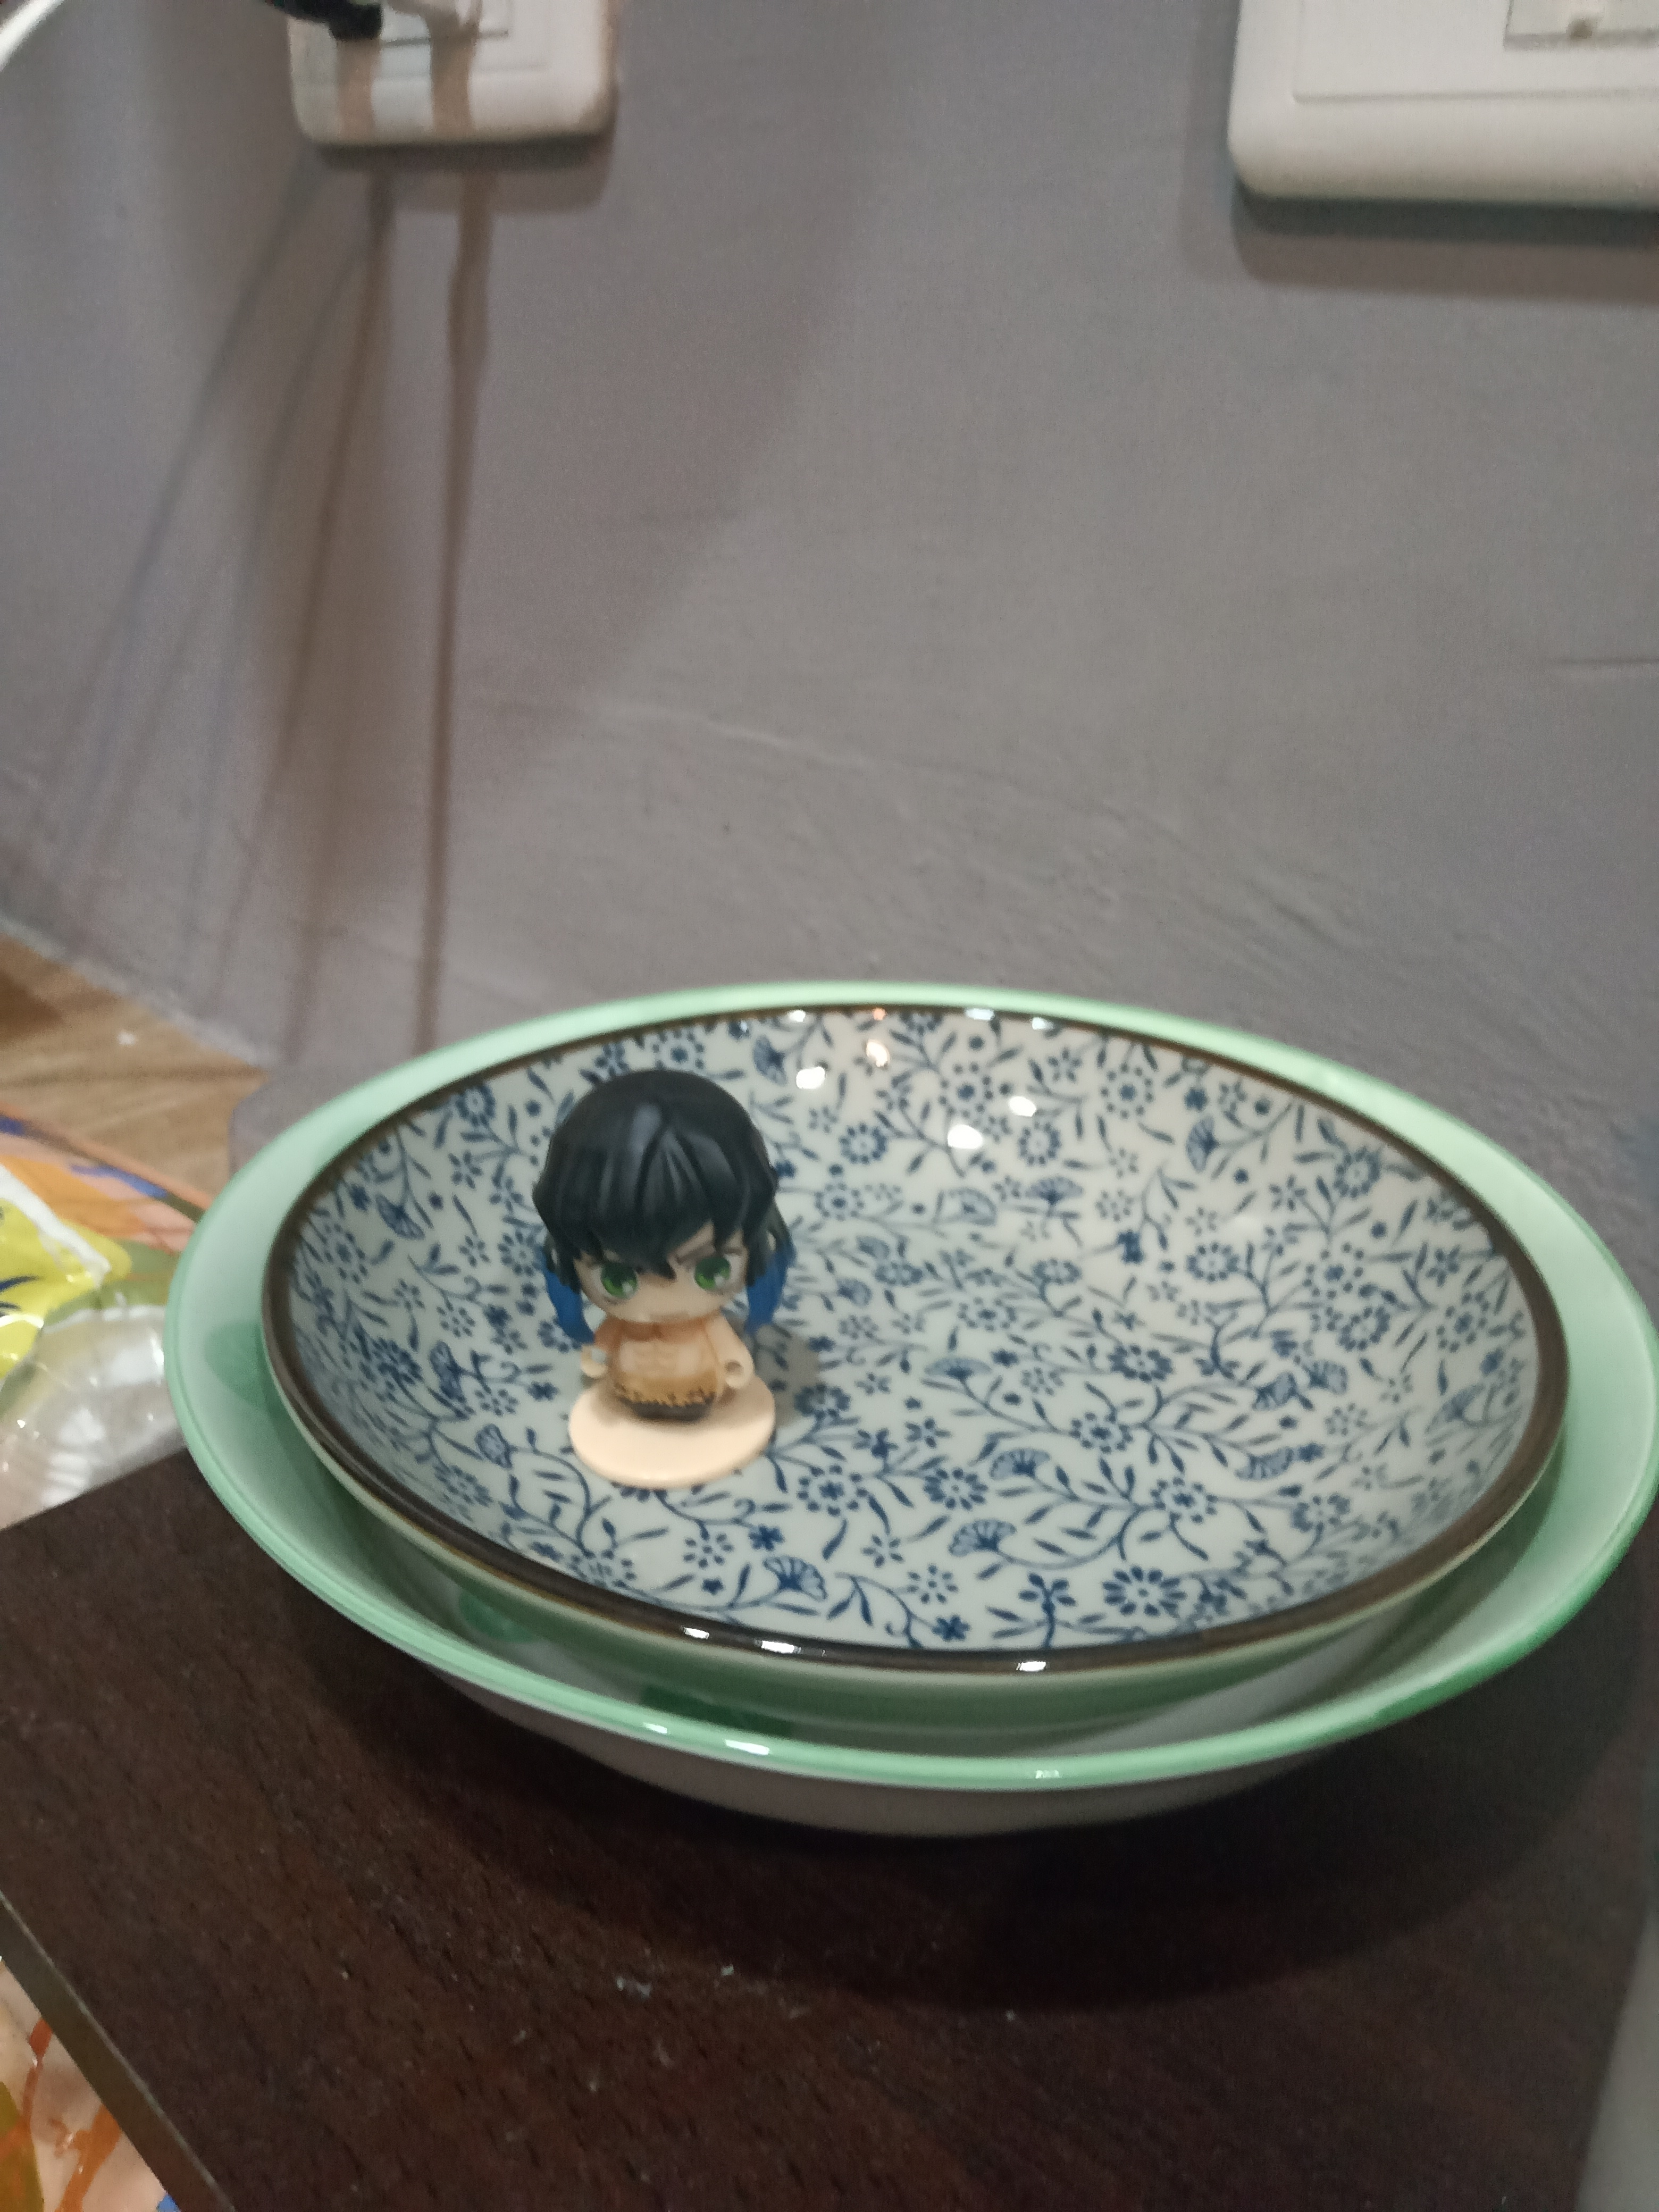Inosuke: (512, 1042, 816, 1522)
